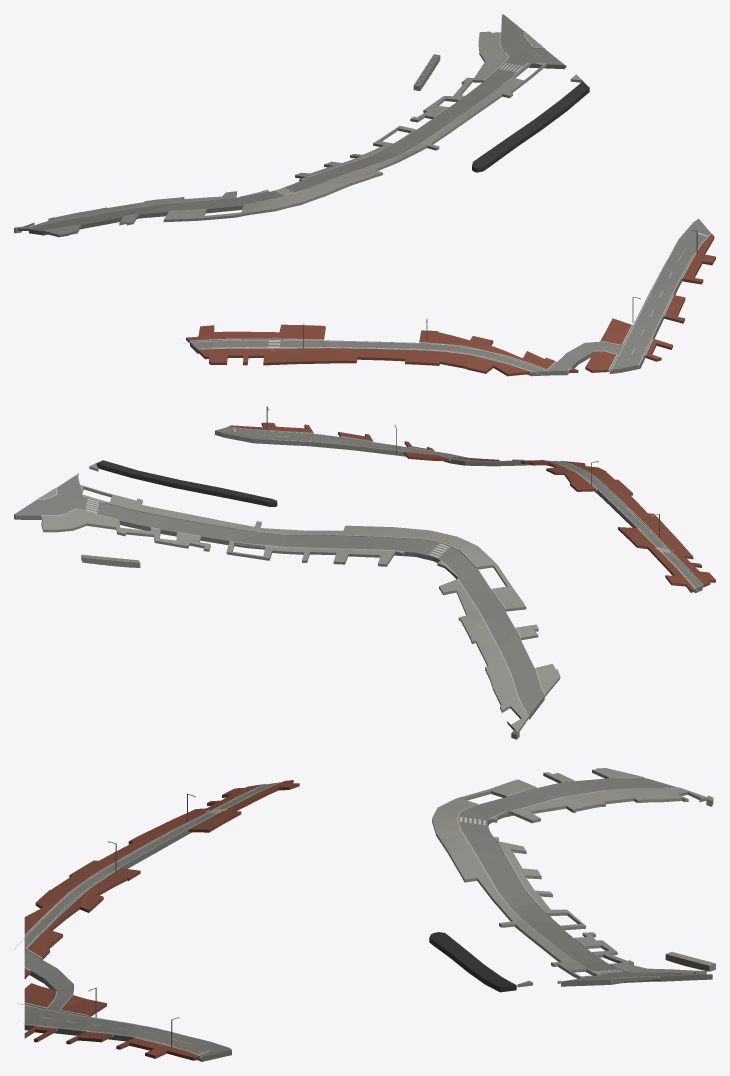
The picture shows the model from 3 angles, top to bottom: view 1: azimuth 30°, elevation 25°; view 2: azimuth 150°, elevation 25°; view 3: azimuth 270°, elevation 25°; orthographic projection. The views are drawn at different scales.
Bounding box in the file's own units: 148 × 33.03 × 149.
